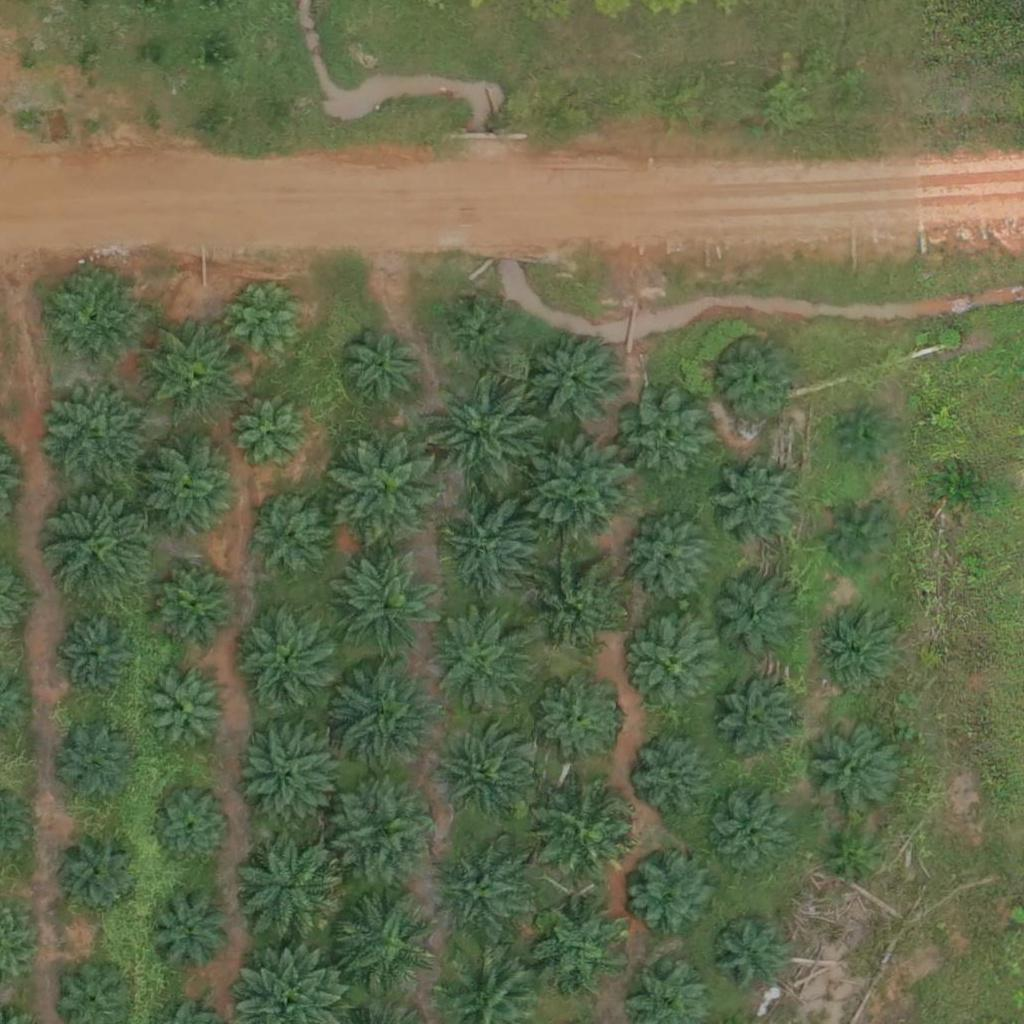Kelapa_Sawit: (429, 365, 554, 490), (44, 382, 157, 496), (50, 489, 163, 603), (331, 429, 444, 542), (336, 548, 449, 661), (330, 657, 443, 770), (330, 775, 442, 889), (233, 833, 345, 947), (45, 269, 145, 370), (143, 320, 243, 421), (444, 495, 544, 596), (434, 610, 534, 711), (434, 731, 534, 832), (532, 441, 632, 542), (524, 557, 624, 658), (538, 780, 638, 881), (533, 901, 633, 1002), (143, 440, 243, 540), (240, 607, 340, 707), (243, 721, 343, 821), (437, 842, 537, 942), (333, 893, 433, 993), (630, 619, 718, 708), (533, 339, 621, 427), (534, 674, 622, 762), (630, 731, 718, 819), (629, 851, 717, 939), (813, 606, 901, 694), (340, 325, 427, 414), (228, 278, 315, 366), (145, 890, 232, 978), (151, 784, 238, 872), (60, 829, 147, 917), (624, 393, 711, 481), (626, 518, 713, 606), (714, 460, 801, 548), (712, 573, 799, 661), (712, 675, 799, 763), (706, 793, 793, 881), (813, 725, 900, 813), (719, 339, 794, 415), (64, 616, 139, 692), (62, 730, 137, 806), (156, 569, 231, 645), (151, 673, 226, 749), (258, 502, 333, 578), (233, 395, 308, 470), (715, 918, 790, 993), (830, 505, 892, 568), (453, 302, 515, 365), (931, 459, 993, 521), (826, 835, 876, 886), (840, 415, 890, 465)
